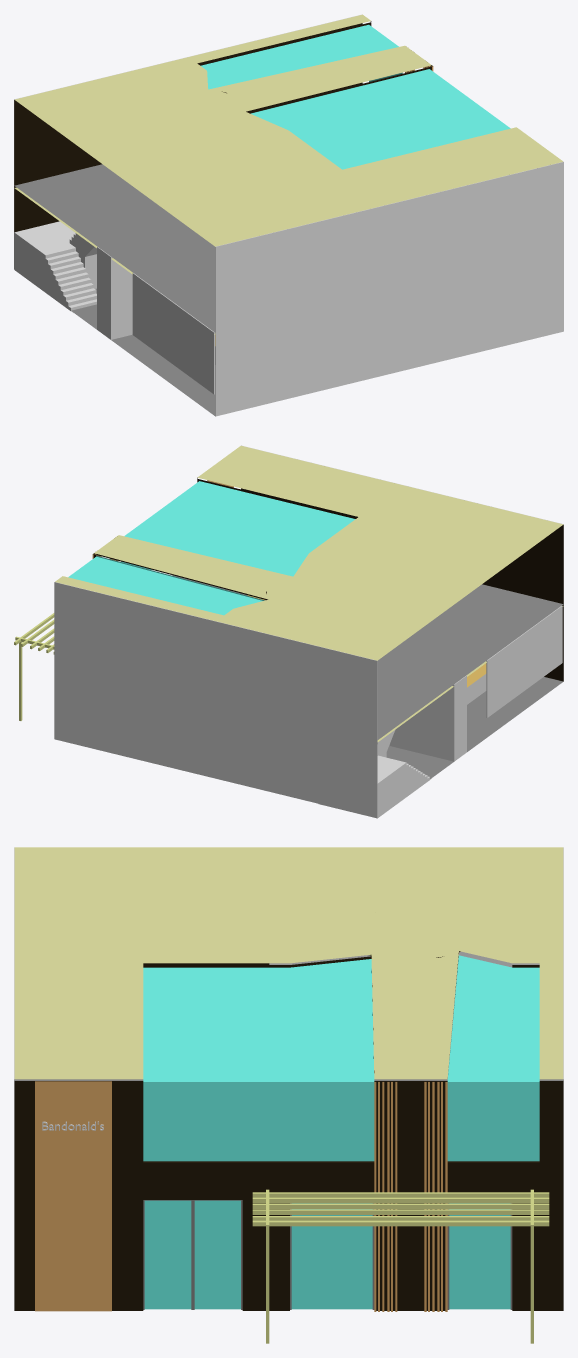
File: MCDONALDS.fbx
3 renders of one model, top to bottom at view 1: azimuth 30°, elevation 25°; view 2: azimuth 150°, elevation 25°; view 3: azimuth 270°, elevation 25°, orthographic. The views are drawn at different scales.
Parts seen in each view (by area): view 1: Building, Cube.003, Poster, Cube, Wall, Cube.001, Cube.004; view 2: Building, Cube.004, Poster, Wall, Cube, Fence, Counter; view 3: Building, Fence.
Boxes of the visible parts, box(x1,y1,x2,y2) form: Building: box(14, 14, 562, 415); Cube.003: box(215, 161, 563, 416); Poster: box(132, 273, 214, 394); Cube: box(14, 221, 96, 313); Wall: box(97, 247, 132, 339); Cube.001: box(68, 233, 96, 288); Cube.004: box(14, 14, 362, 268); Building: box(55, 446, 563, 779); Cube.004: box(54, 582, 377, 817); Poster: box(486, 605, 562, 717); Wall: box(390, 675, 466, 761); Cube: box(319, 755, 431, 818); Fence: box(14, 613, 54, 720); Counter: box(467, 663, 486, 704); Building: box(14, 847, 563, 1311); Fence: box(252, 951, 549, 1343).
Size of the model in its own units: 4781 by 1937 by 4154.
